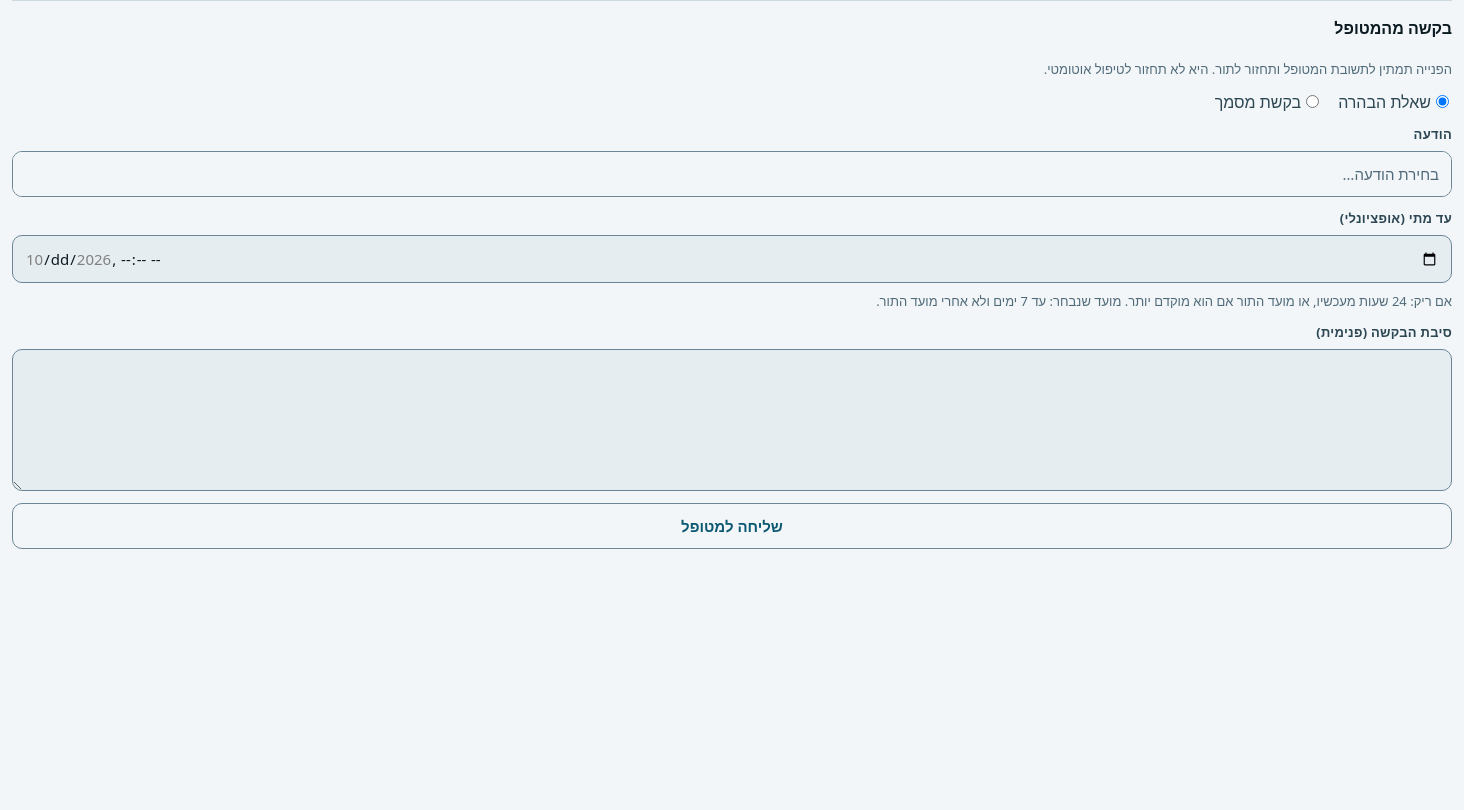
Test case: PatientRequest › shows the refusal code with its Hebrew label
Step 1. Select "לא הצלחנו להבין" in the dropdown labelled "הודעה" → point(732, 174), box [13,152,1451,196]
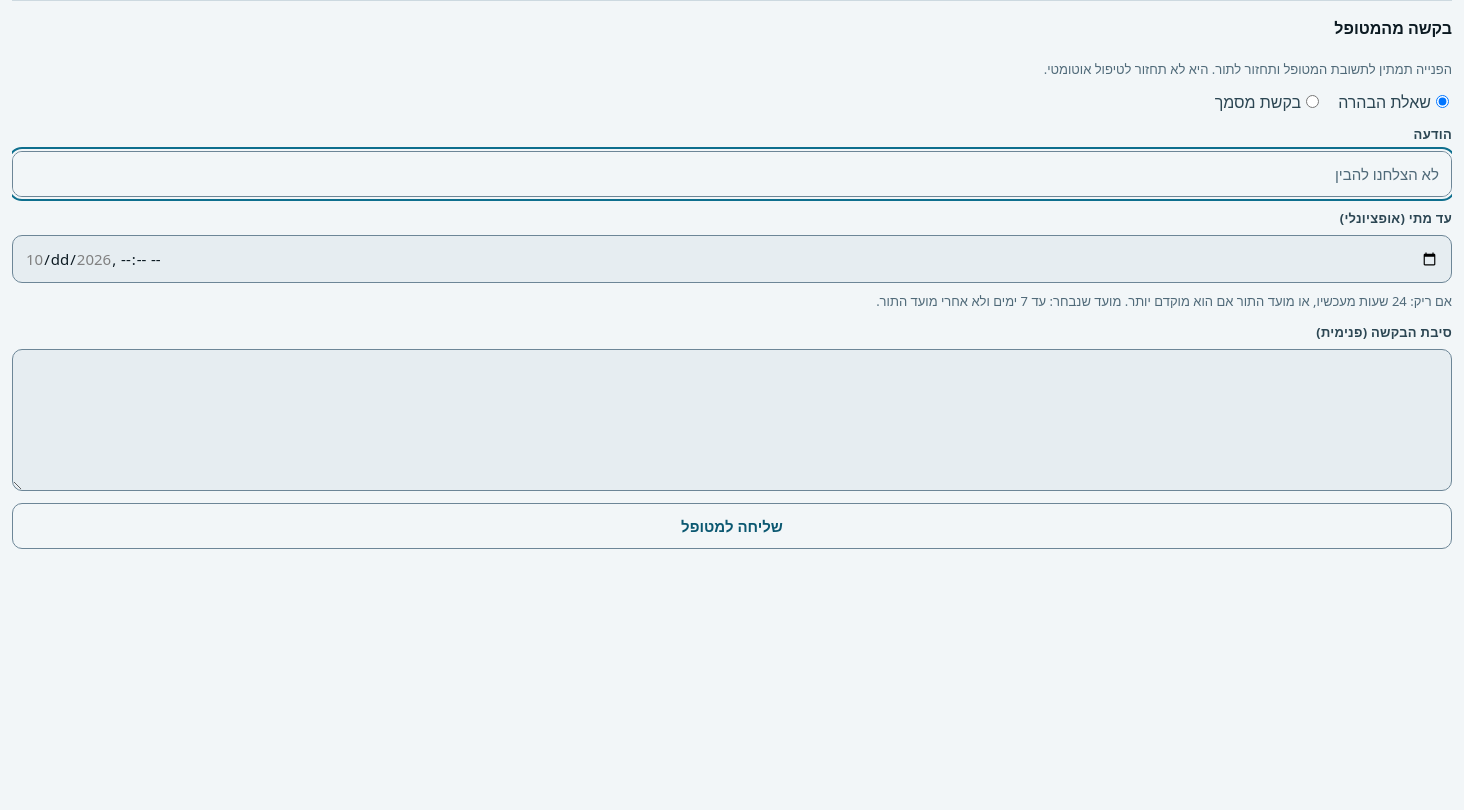
Step 2. Type "r" into the text box labelled "סיבת הבקשה (פנימית)" → point(732, 420), box [13,350,1451,490]
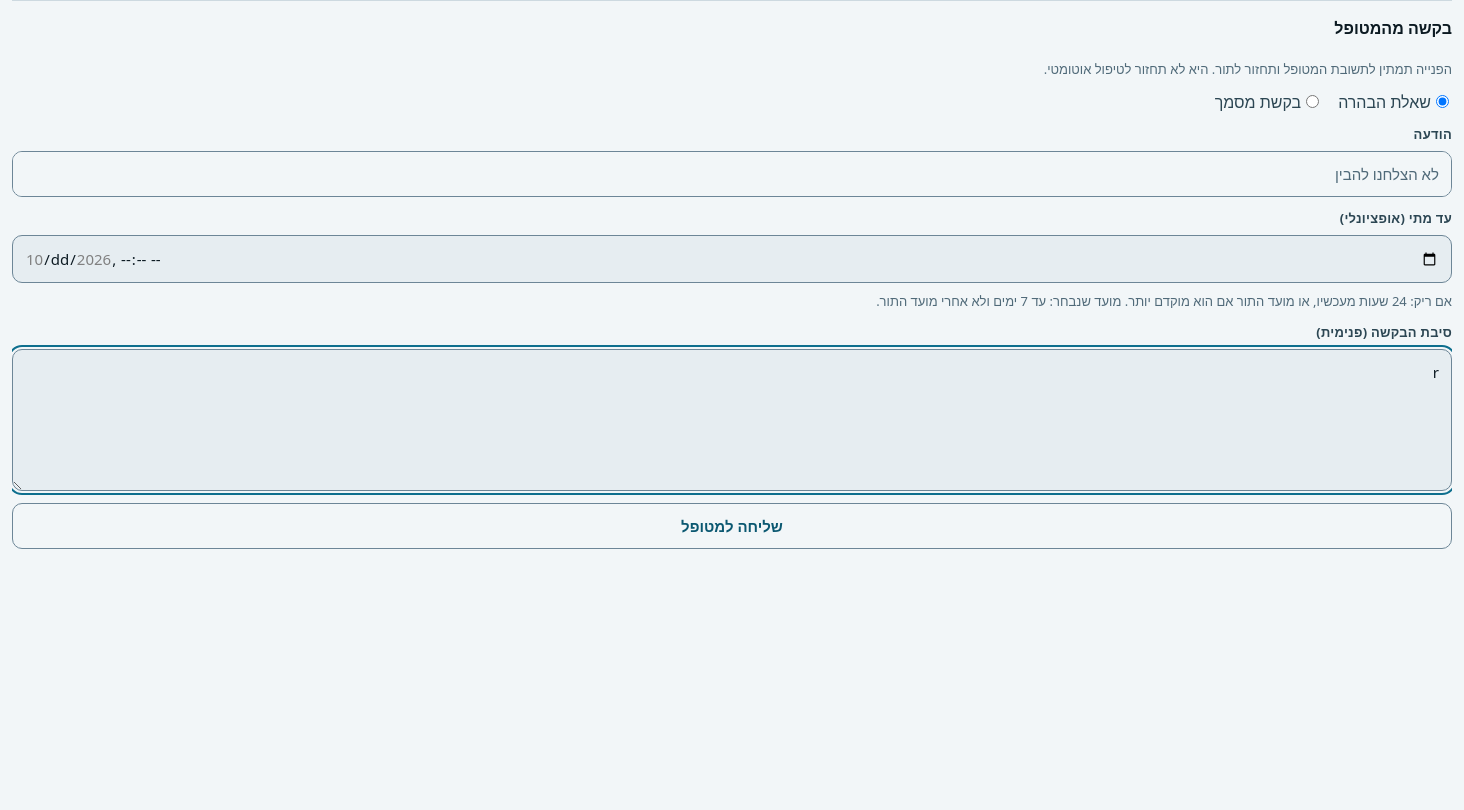
Step 3. Click the button "שליחה למטופל" → point(732, 526), box [12,503,1452,549]
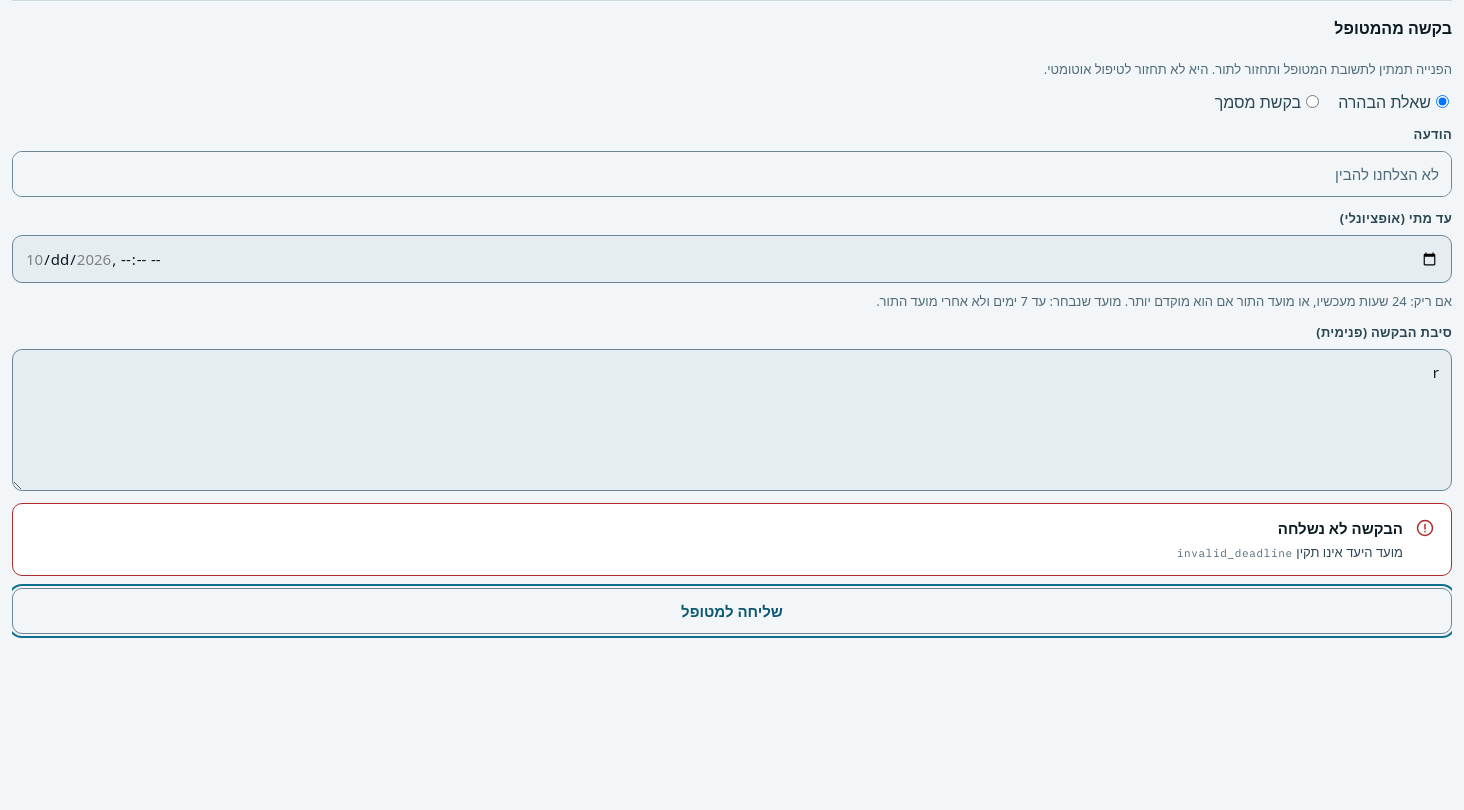
Expected: the message shows "invalid_deadline", [1177,546,1293,560]
Expected: the message shows "מועד היעד אינו תקין", [1296,543,1403,561]
